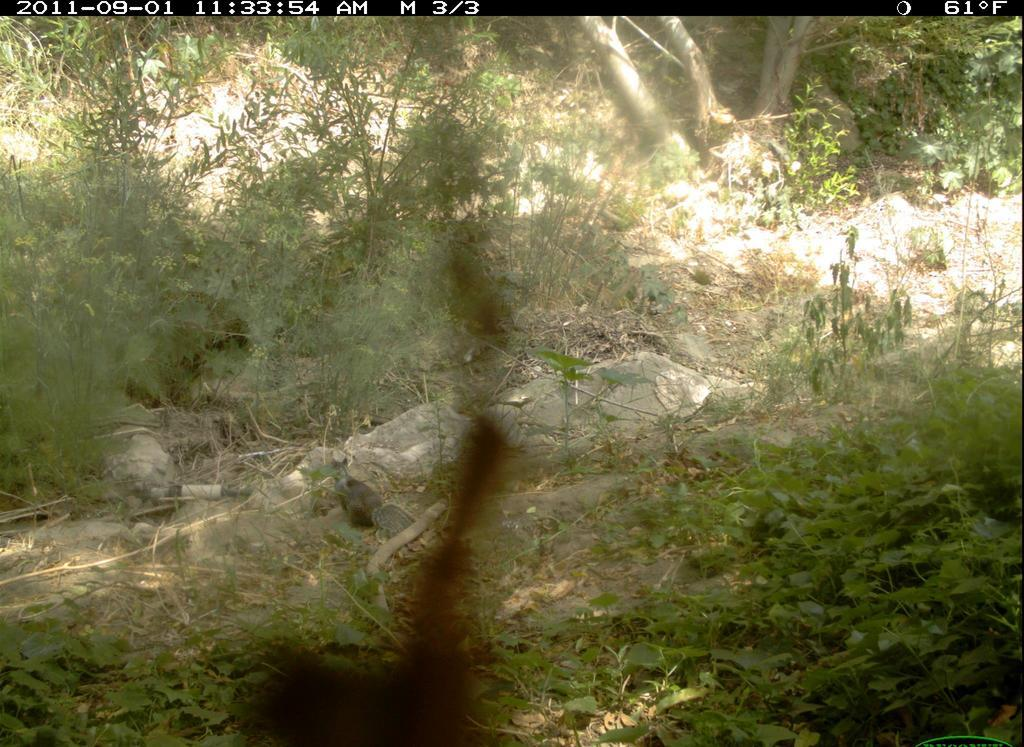squirrel: (318, 440, 425, 562)
